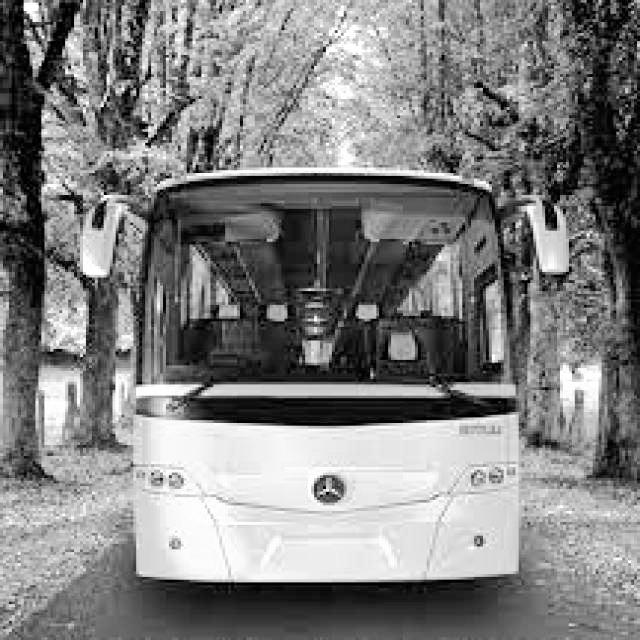Bus: (64, 149, 580, 605)
